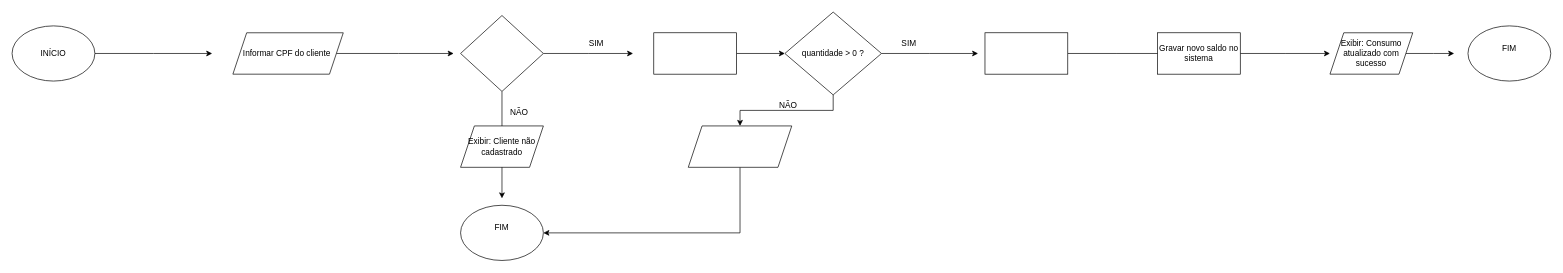
This 1563x273 diagram has some shape labels left out. The shapes that lost their labels are listed below. From the top down, each one's centre as x and y in pixels, then its label:
At pixel 501 53: "Cliente existe no sistema?".
At pixel 695 53: "Informar quantidade consumida".
At pixel 1026 53: "Somar ao consumo atual".
At pixel 740 146: "Exibir: Consumo inválido".
